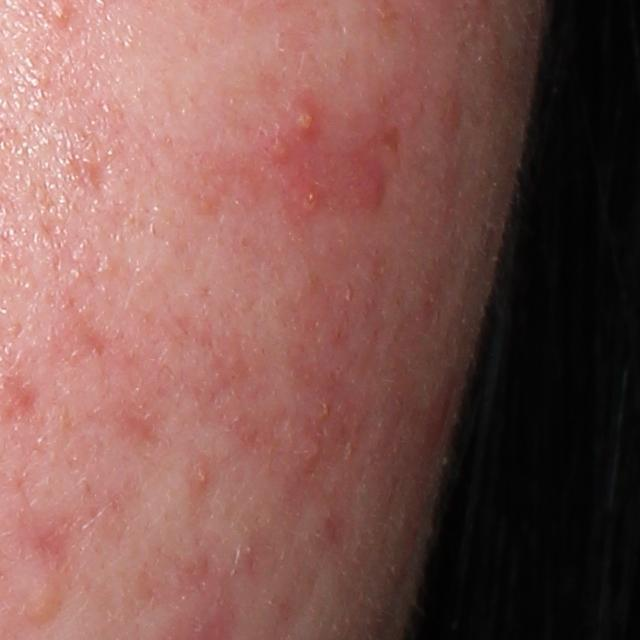atrophic_scar: (85, 152, 121, 190)
pustule: (291, 105, 314, 133)
